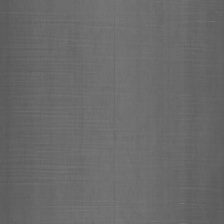waist_folding: (176, 21, 211, 190)
